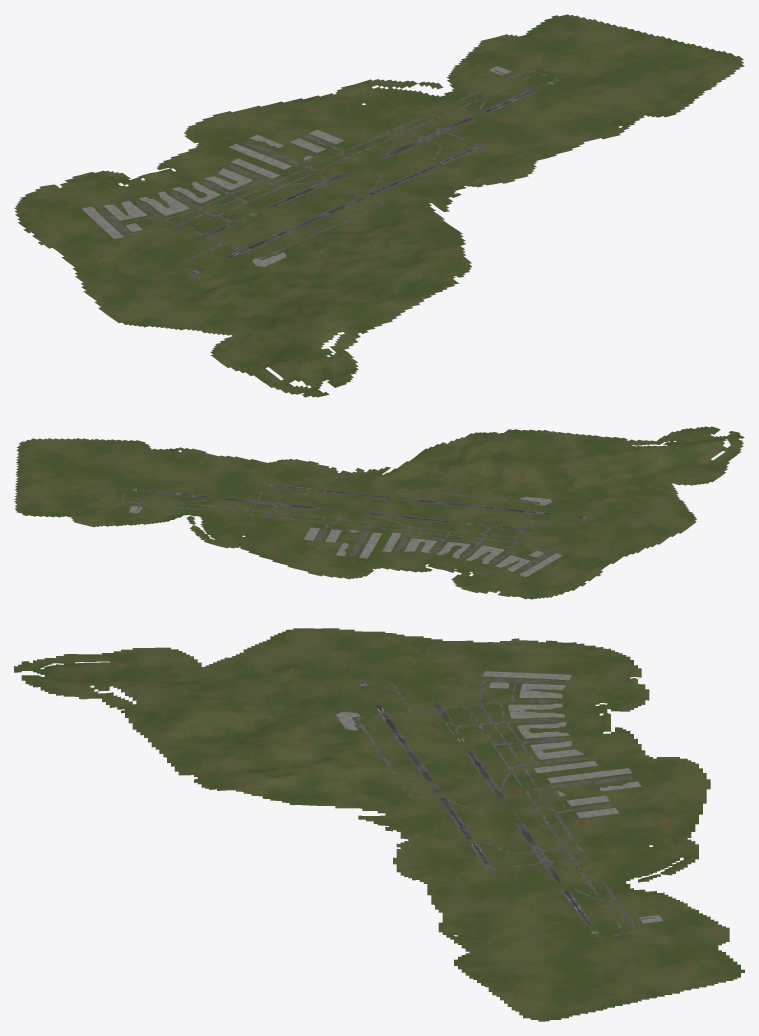
Rendered from sbgr_placa_campo.glb.
The picture shows the model from 3 angles, top to bottom: view 1: azimuth 30°, elevation 25°; view 2: azimuth 150°, elevation 25°; view 3: azimuth 270°, elevation 25°; orthographic projection. The views are drawn at different scales.
Visible parts, largest first — view 1: sbgr_placa_campo; view 2: sbgr_placa_campo; view 3: sbgr_placa_campo.
Boxes of the visible parts, bbox=[...] form: sbgr_placa_campo: bbox=[14, 14, 744, 397]; sbgr_placa_campo: bbox=[14, 426, 744, 599]; sbgr_placa_campo: bbox=[14, 628, 744, 1021].
Size of the model in its own units: 6125 by 84.12 by 4775.
9 materials, 7 textured.
